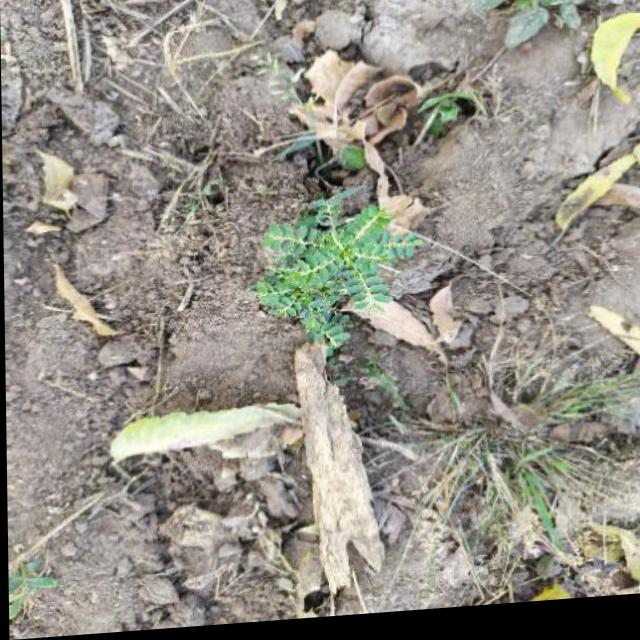weed: (386, 385, 640, 611), (251, 195, 427, 381)
